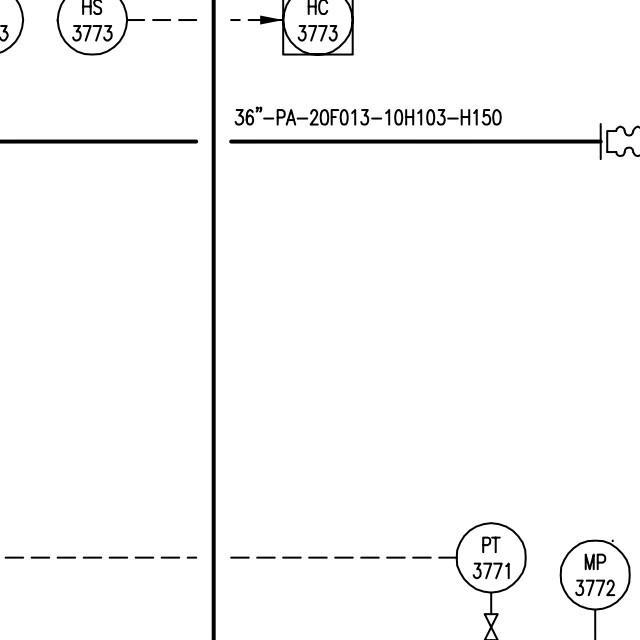GV: (479, 609, 504, 640)
